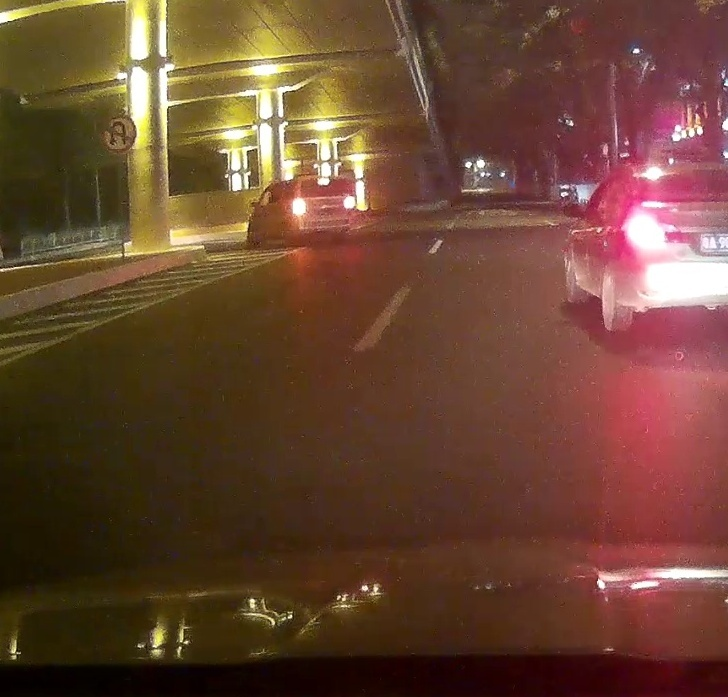L_light: (293, 198, 306, 214)
R_light: (345, 196, 354, 209)
T_light: (316, 178, 330, 186)
night-brake: (289, 174, 355, 242)
